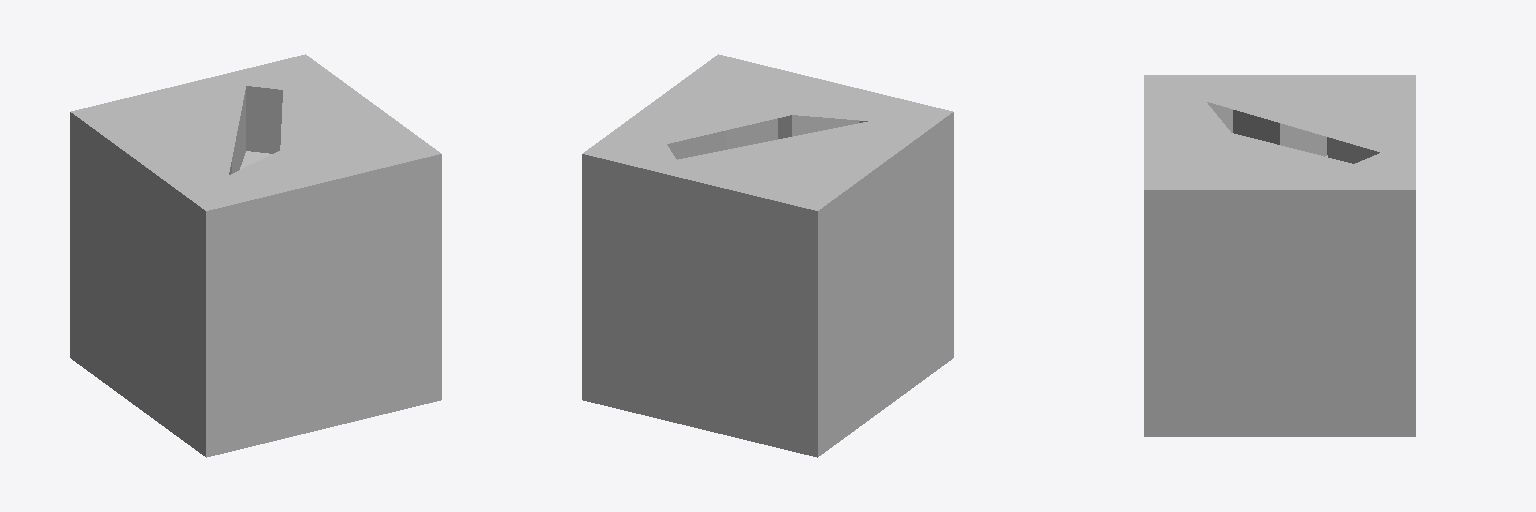
The model's file is Cross_cube_bottle_rotated45.obj.
3 views of the same model, side by side, from view 1: azimuth 30°, elevation 25°; view 2: azimuth 150°, elevation 25°; view 3: azimuth 270°, elevation 25° (orthographic).
Visible parts, largest first — view 1: Bottle_Cube.005; view 2: Bottle_Cube.005; view 3: Bottle_Cube.005.
Part boxes in pixels (x1,y1,x2,y2): Bottle_Cube.005: (70, 54, 441, 457); Bottle_Cube.005: (582, 54, 953, 457); Bottle_Cube.005: (1144, 75, 1415, 436).
Size of the model in its own units: 0.08 by 0.08 by 0.08.